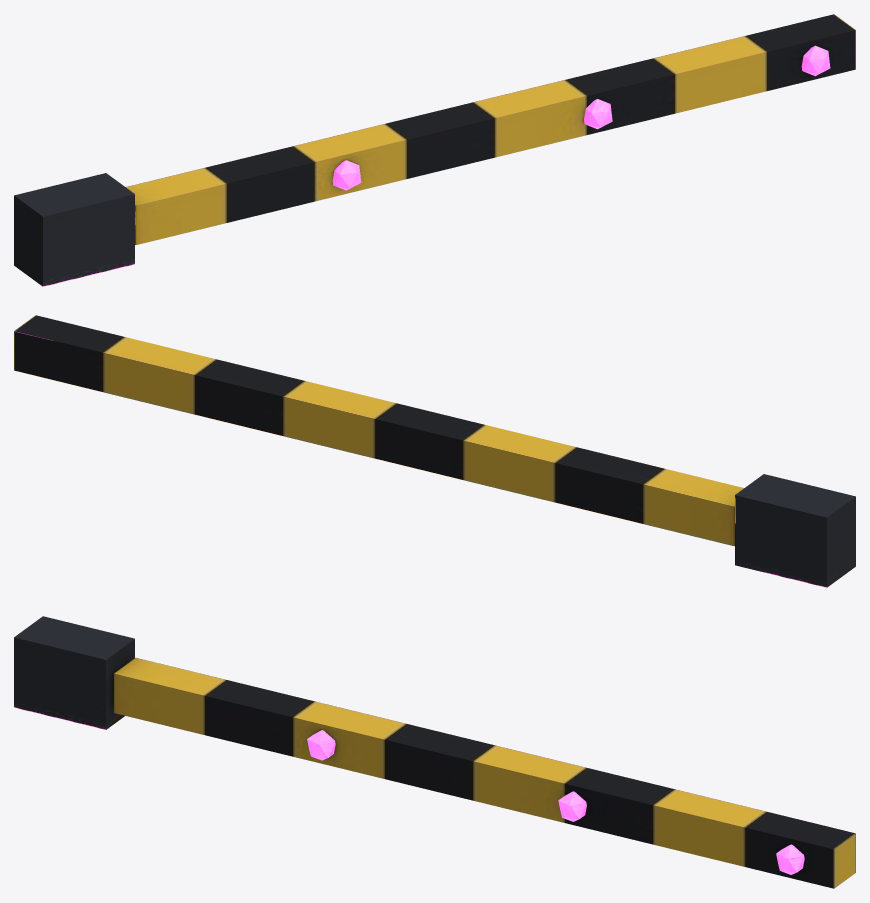
The model's file is barrera_valet_brazo.glb.
3 renders of one model, top to bottom at view 1: azimuth 30°, elevation 25°; view 2: azimuth 150°, elevation 25°; view 3: azimuth 330°, elevation 25°, orthographic.
Visible parts, largest first — view 1: barrera_valet_brazo; view 2: barrera_valet_brazo; view 3: barrera_valet_brazo.
Part boxes in pixels (x1,y1,x2,y2): barrera_valet_brazo: (14, 14, 855, 286); barrera_valet_brazo: (14, 315, 855, 587); barrera_valet_brazo: (14, 616, 855, 888).
Bounding box in the file's own units: 1.95 × 0.16 × 0.1398.
1 material, 1 textured.
